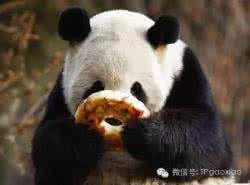panda: (30, 7, 235, 184)
